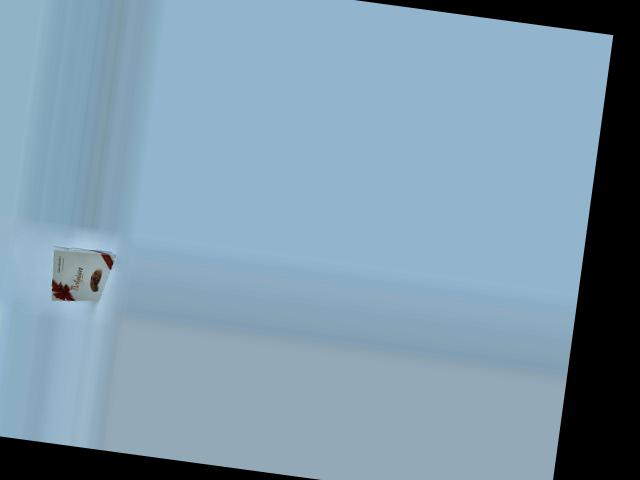chocolate: (48, 232, 120, 309)
